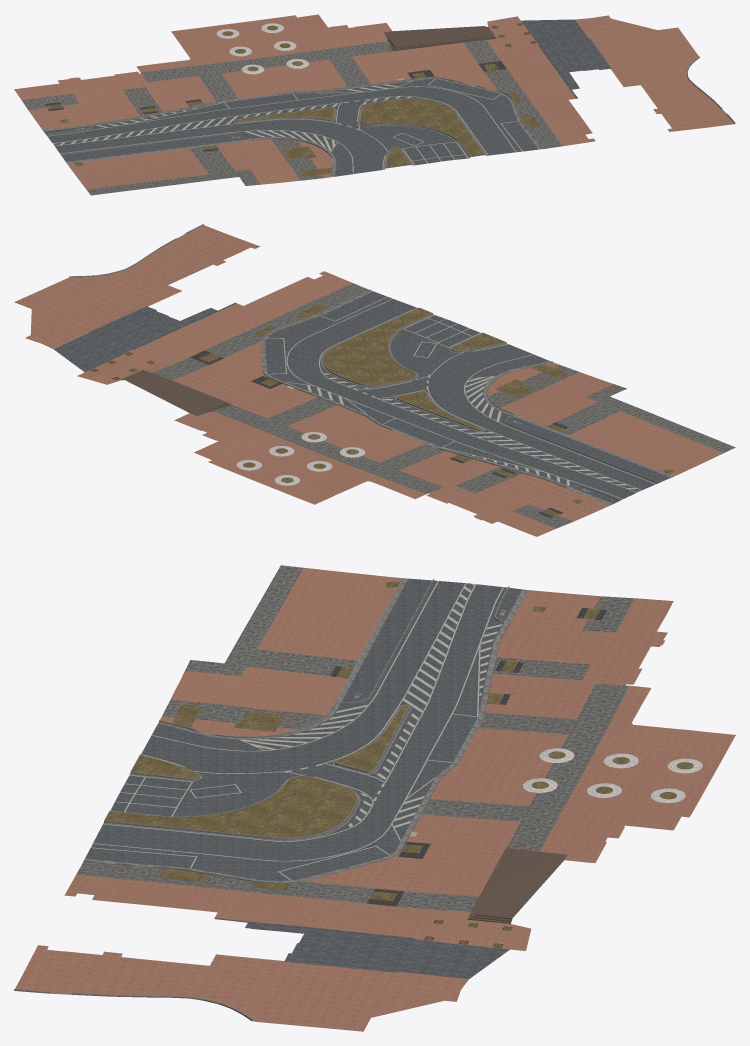
Rendered from zimCreateArchive_Area01_Ground.fbx.
3 renders of one model, top to bottom at view 1: azimuth 30°, elevation 25°; view 2: azimuth 150°, elevation 25°; view 3: azimuth 270°, elevation 25°, orthographic. The views are drawn at different scales.
Visible parts, largest first — view 1: Ground-Paving-Pink, Ground-Road, Ground-Paving-Grey, Ground-Grass1, Ground-Kerb, Ground-RoadMark, Ground-DarkGrey, Ground-Brown-Step, Ground-TreeBase, Ground-Drain; view 2: Ground-Paving-Pink, Ground-Road, Ground-Paving-Grey, Ground-Grass1, Ground-Kerb, Ground-DarkGrey, Ground-RoadMark, Ground-Brown-Step, Ground-TreeBase, Ground-Drain; view 3: Ground-Paving-Pink, Ground-Road, Ground-Paving-Grey, Ground-Grass1, Ground-Kerb, Ground-DarkGrey, Ground-RoadMark, Ground-Brown-Step, Ground-TreeBase, Ground-Drain.
Part boxes in pixels (bbox=[...]): Ground-Paving-Pink: bbox=[14, 14, 734, 189]; Ground-Road: bbox=[44, 79, 538, 176]; Ground-Paving-Grey: bbox=[22, 39, 562, 195]; Ground-Grass1: bbox=[46, 23, 539, 176]; Ground-Kerb: bbox=[42, 56, 735, 176]; Ground-RoadMark: bbox=[47, 79, 522, 173]; Ground-DarkGrey: bbox=[521, 19, 611, 98]; Ground-Brown-Step: bbox=[384, 26, 496, 51]; Ground-TreeBase: bbox=[216, 23, 308, 74]; Ground-Drain: bbox=[44, 23, 536, 151]; Ground-Paving-Pink: bbox=[14, 225, 723, 536]; Ground-Road: bbox=[265, 291, 670, 503]; Ground-Paving-Grey: bbox=[153, 283, 735, 528]; Ground-Grass1: bbox=[91, 304, 673, 516]; Ground-Kerb: bbox=[69, 224, 673, 505]; Ground-DarkGrey: bbox=[53, 302, 236, 372]; Ground-RoadMark: bbox=[267, 296, 655, 499]; Ground-Brown-Step: bbox=[121, 370, 231, 416]; Ground-TreeBase: bbox=[236, 432, 365, 485]; Ground-Drain: bbox=[90, 350, 568, 517]; Ground-Paving-Pink: bbox=[15, 567, 735, 1031]; Ground-Road: bbox=[85, 578, 522, 881]; Ground-Paving-Grey: bbox=[76, 565, 634, 911]; Ground-Grass1: bbox=[104, 581, 693, 947]; Ground-Kerb: bbox=[14, 578, 528, 1021]; Ground-DarkGrey: bbox=[214, 918, 509, 979]; Ground-RoadMark: bbox=[90, 581, 505, 880]; Ground-Brown-Step: bbox=[467, 848, 566, 923]; Ground-TreeBase: bbox=[523, 748, 702, 802]; Ground-Drain: bbox=[330, 608, 606, 947].
Size of the model in its own units: 125 by 82.29 by 0.8218.
Materials: 10 (10 with a texture image).
